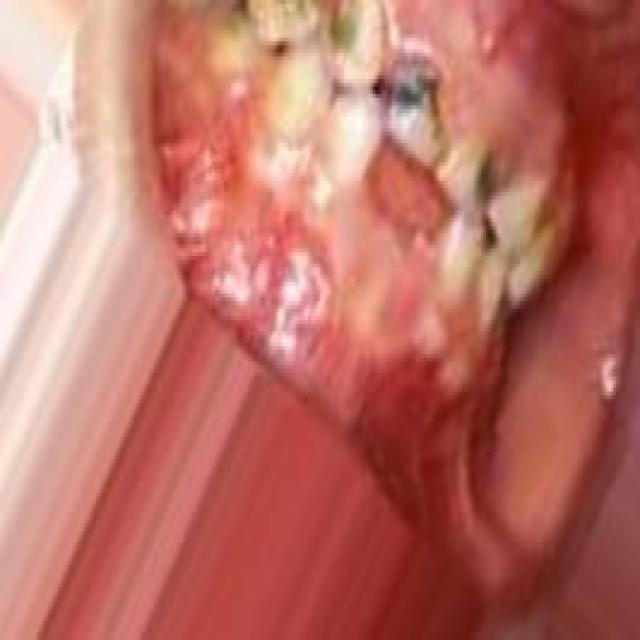caries: (380, 40, 456, 176), (457, 135, 510, 238), (328, 0, 386, 86)
